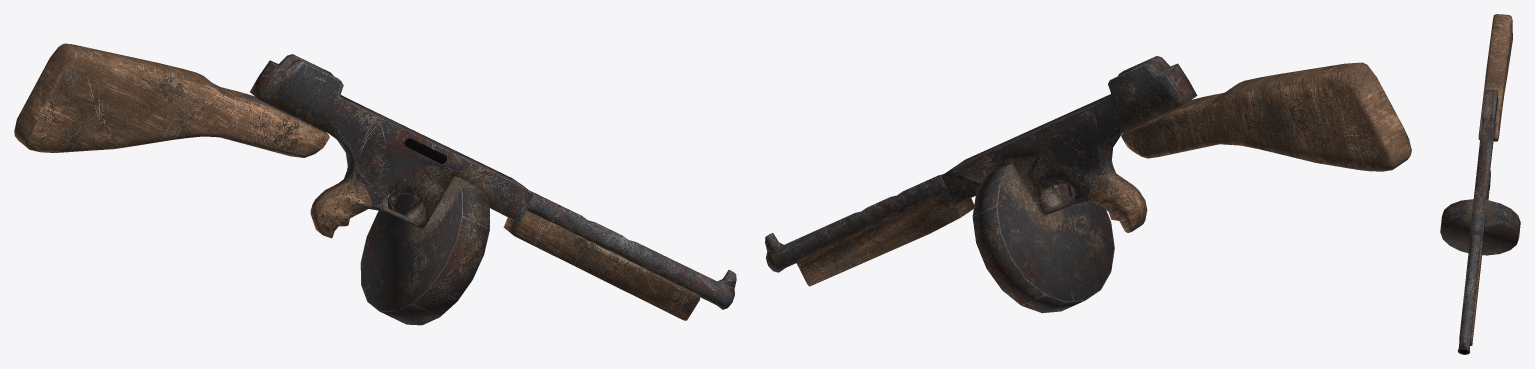
The model's file is Anim_disparar_ametralladora_objetos.0033.obj.
The picture shows the model from 3 angles, left to right: view 1: azimuth 30°, elevation 25°; view 2: azimuth 150°, elevation 25°; view 3: azimuth 270°, elevation 25°; orthographic projection. The views are drawn at different scales.
Visible parts, largest first — view 1: Ametralladora1; view 2: Ametralladora1; view 3: Ametralladora1.
Part boxes in pixels (x1,y1,x2,y2): Ametralladora1: [14, 43, 736, 325]; Ametralladora1: [765, 56, 1411, 313]; Ametralladora1: [1440, 14, 1520, 354].
Size of the model in its own units: 5.65 by 3.05 by 1.17.
